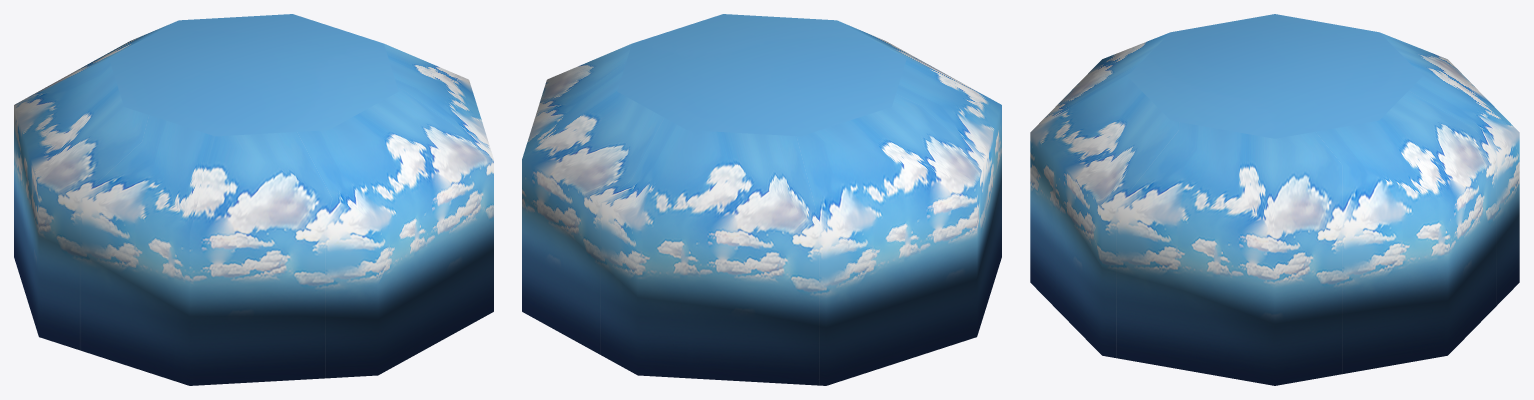
Rendered from skybox.fbx.
3 renders of one model, left to right at view 1: azimuth 30°, elevation 25°; view 2: azimuth 150°, elevation 25°; view 3: azimuth 270°, elevation 25°, orthographic.
Visible parts, largest first — view 1: Cylinder; view 2: Cylinder; view 3: Cylinder.
Part boxes in pixels (x1,y1,x2,y2): Cylinder: (14,14,493,385); Cylinder: (522,14,1001,385); Cylinder: (1030,14,1519,385).
Size of the model in its own units: 16988 by 7902 by 16988.
